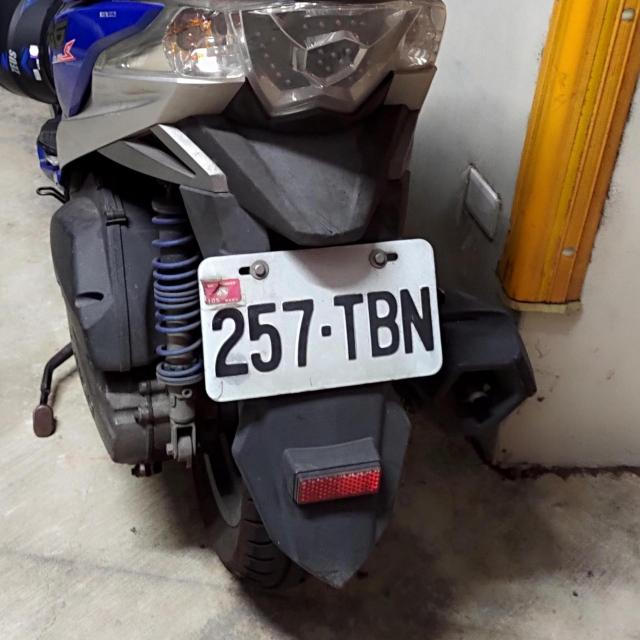W: (194, 232, 451, 405)
